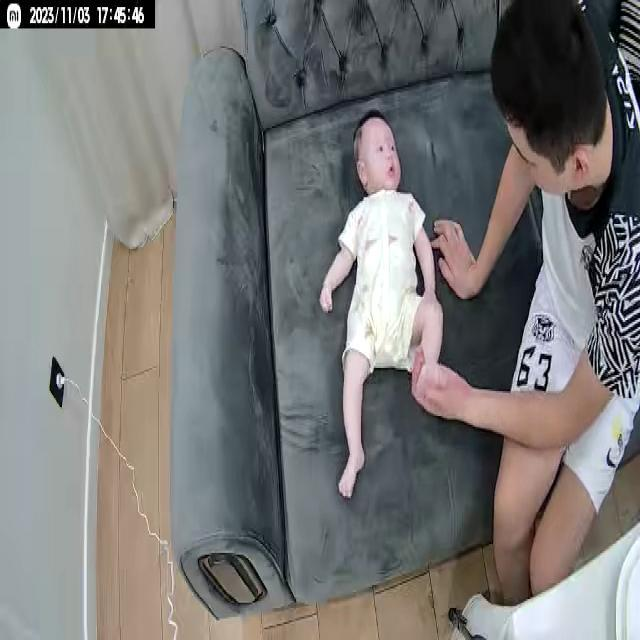baby: (317, 110, 445, 503)
